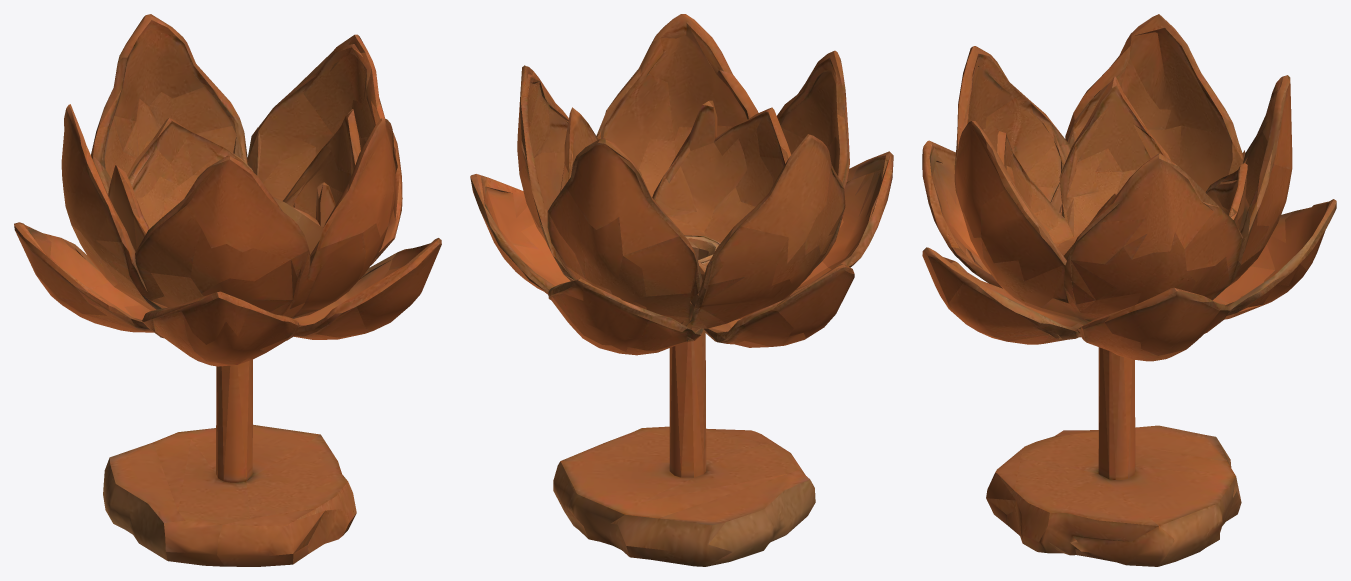
The model's file is lotus.glb.
The picture shows the model from 3 angles, left to right: view 1: azimuth 30°, elevation 25°; view 2: azimuth 150°, elevation 25°; view 3: azimuth 270°, elevation 25°; orthographic projection.
Parts seen in each view (by area): view 1: mesh_node; view 2: mesh_node; view 3: mesh_node.
Boxes of the visible parts, bbox=[...] form: mesh_node: bbox=[14, 14, 441, 566]; mesh_node: bbox=[470, 14, 893, 566]; mesh_node: bbox=[922, 14, 1336, 566].
Size of the model in its own units: 1.71 by 1.9 by 1.62.
1 material, 1 textured.
